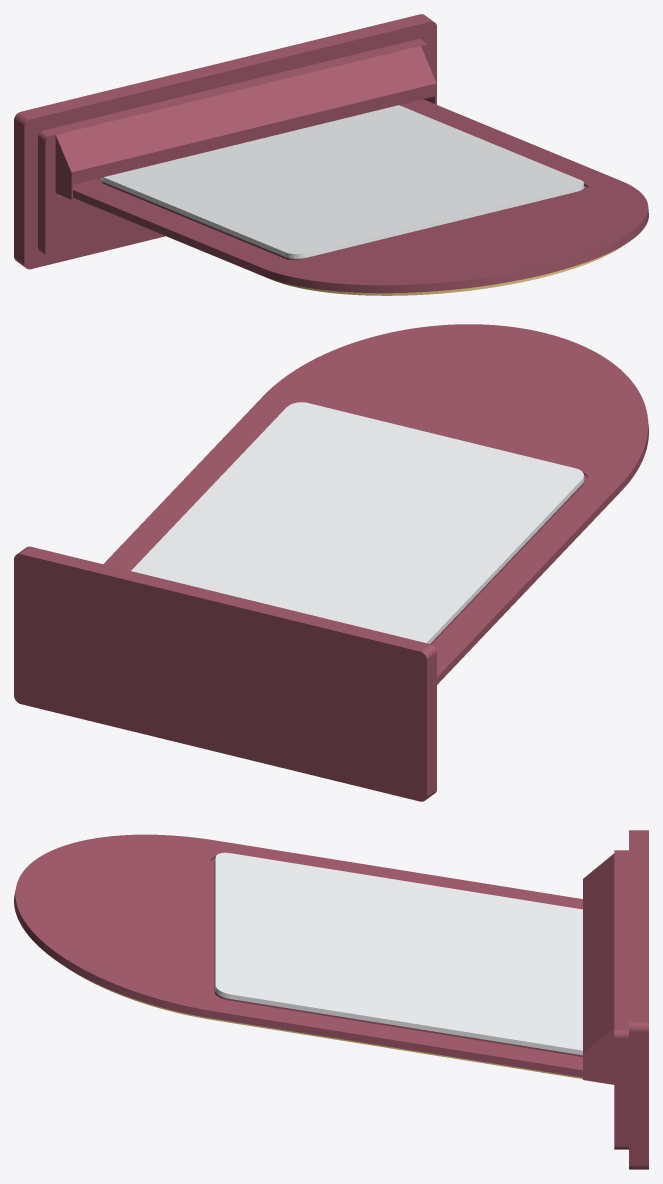
File: leshem-yichud-heichal-stand-preview.glb
3 renders of one model, top to bottom at view 1: azimuth 30°, elevation 25°; view 2: azimuth 150°, elevation 25°; view 3: azimuth 270°, elevation 25°, orthographic. The views are drawn at different scales.
Visible parts, largest first — view 1: stand, mirror, body, accent; view 2: stand, mirror, body; view 3: mirror, body, stand, accent.
Part boxes in pixels (bbox=[...]): stand: bbox=[14, 14, 436, 269]; mirror: bbox=[101, 105, 584, 258]; body: bbox=[73, 99, 648, 293]; accent: bbox=[74, 198, 623, 295]; stand: bbox=[14, 546, 436, 801]; mirror: bbox=[131, 402, 584, 643]; body: bbox=[103, 324, 648, 684]; mirror: bbox=[215, 852, 582, 1055]; body: bbox=[14, 834, 582, 1077]; stand: bbox=[583, 830, 648, 1169]; accent: bbox=[69, 969, 582, 1078].
Size of the model in its own units: 92.19 by 39.08 by 125.
